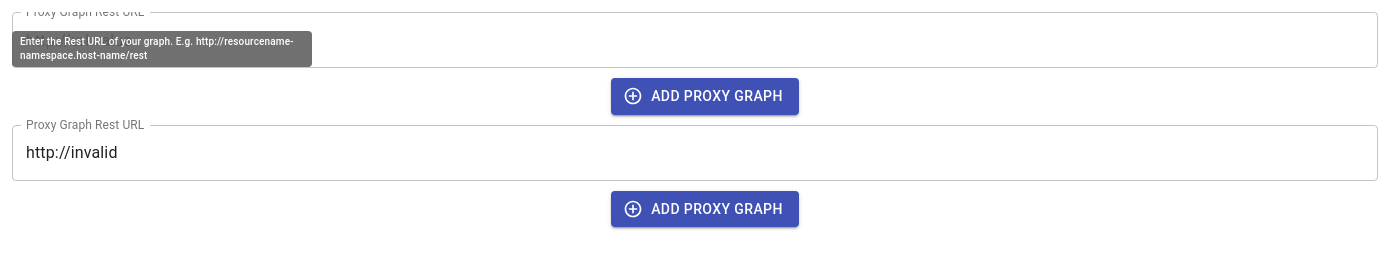
Test: Success & Error handling Adding Proxy Graph › Should show error on invalid unknown error
Click the button with id "add-new-proxy-button" at (705, 209), box [611,190,799,227]
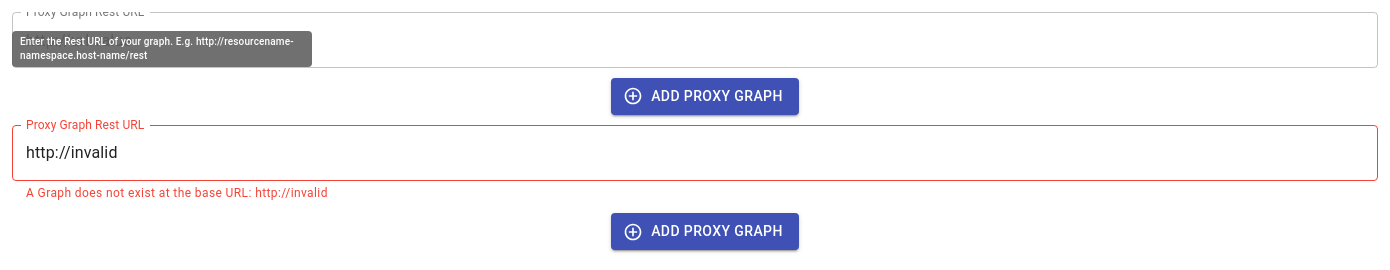
Check: the text "A Graph does not exist at the base URL: http://invalid" is shown, box [26,186,328,200]
